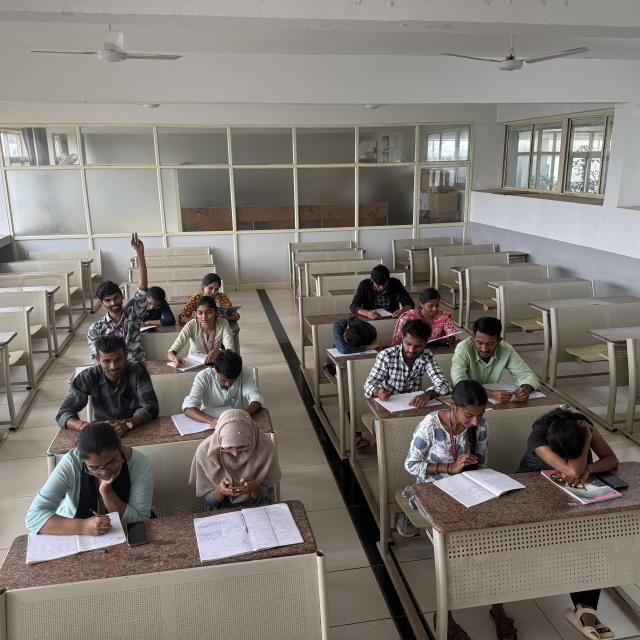Hand Rising: (86, 229, 148, 351)
Reading: (406, 378, 520, 496), (452, 314, 548, 404), (177, 358, 264, 434), (398, 287, 464, 343), (178, 273, 242, 320), (352, 264, 407, 318)
Sleeping: (523, 407, 617, 475), (329, 314, 383, 352)
Using Phone: (189, 410, 281, 503)
Writing: (21, 418, 124, 552), (366, 319, 447, 410), (170, 294, 222, 369), (126, 286, 176, 330)
